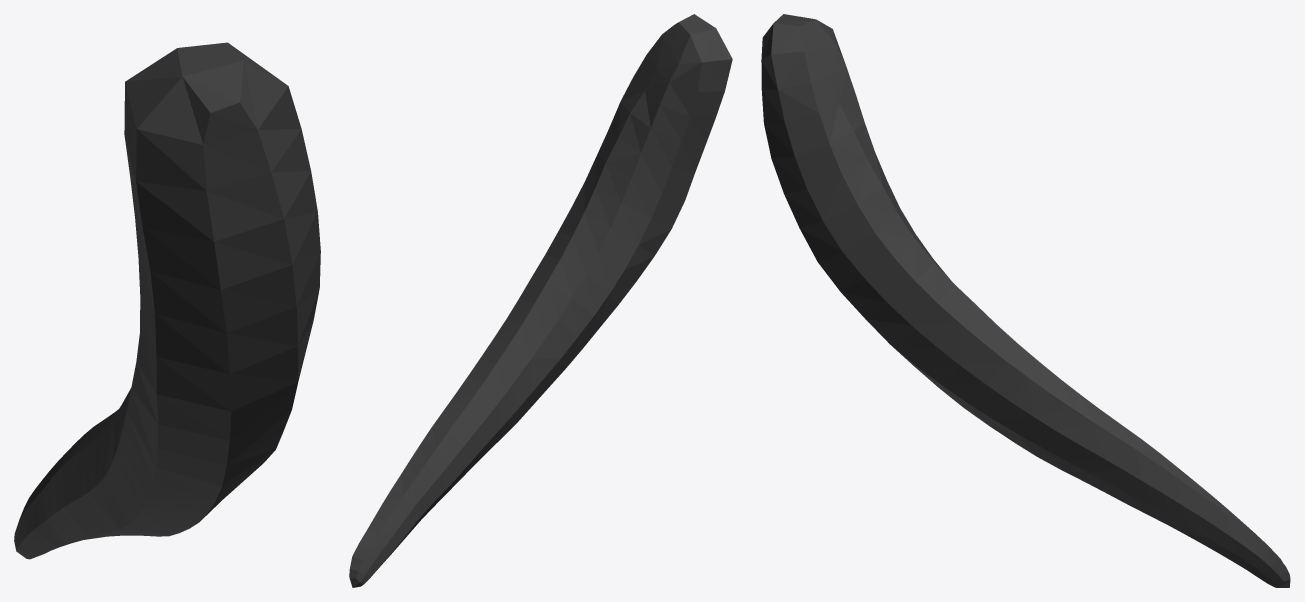
File: Cleidobrachialis_1.glb
3 views of the same model, side by side, from view 1: azimuth 30°, elevation 25°; view 2: azimuth 150°, elevation 25°; view 3: azimuth 270°, elevation 25° (orthographic). The views are drawn at different scales.
Visible parts, largest first — view 1: Cleidobrachialis_1; view 2: Cleidobrachialis_1; view 3: Cleidobrachialis_1.
Part boxes in pixels (x1,y1,x2,y2): Cleidobrachialis_1: (14,42,320,559); Cleidobrachialis_1: (349,14,732,587); Cleidobrachialis_1: (761,14,1290,587).
Bounding box in the file's own units: 0.2021 × 0.5004 × 0.4787.
1 material, 1 textured.
